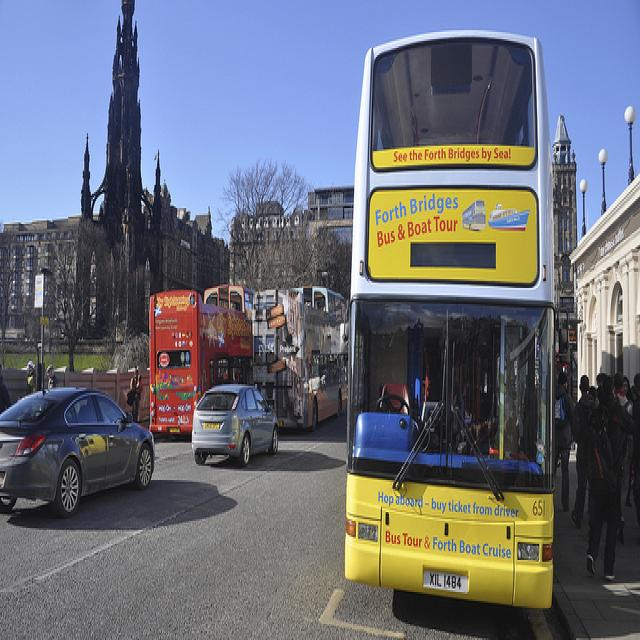Vehicle: (345, 30, 570, 607), (0, 383, 156, 520), (148, 284, 255, 433), (276, 290, 348, 431), (190, 383, 280, 468)
